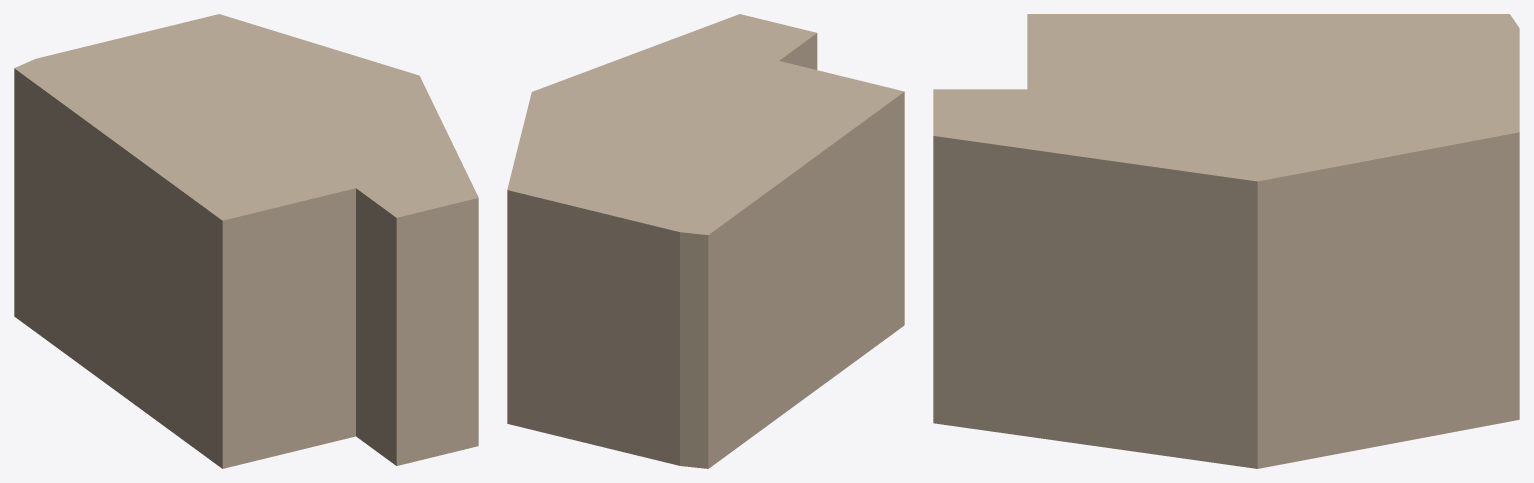
File: massing.glb
3 views of the same model, side by side, from view 1: azimuth 30°, elevation 25°; view 2: azimuth 150°, elevation 25°; view 3: azimuth 270°, elevation 25° (orthographic). The views are drawn at different scales.
Parts seen in each view (by area): view 1: building/exterior; view 2: building/exterior; view 3: building/exterior.
Part boxes in pixels (left/top/right/bottom): building/exterior: left=14, top=14, right=478, bottom=468; building/exterior: left=507, top=14, right=904, bottom=468; building/exterior: left=933, top=14, right=1519, bottom=468.
Size of the model in its own units: 11 by 8.8 by 16.27.
